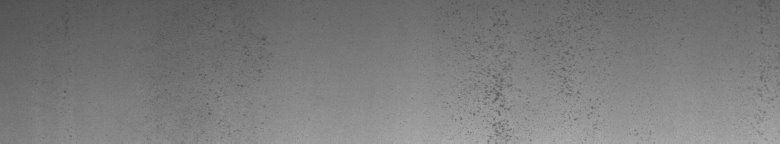ib: (452, 10, 603, 136)
